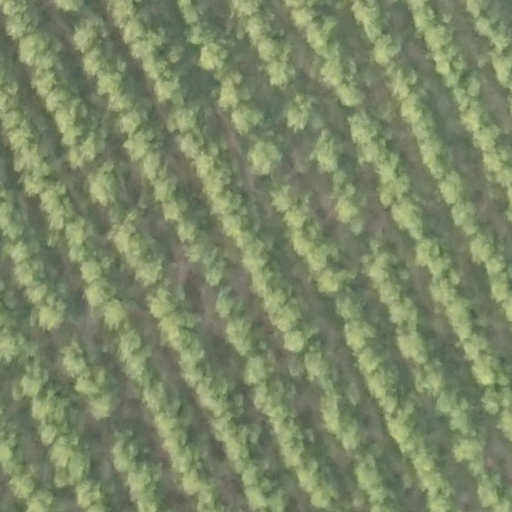eucalipto: (242, 132, 293, 184), (86, 160, 126, 208), (97, 292, 139, 333), (332, 191, 372, 234), (142, 281, 187, 319), (225, 318, 267, 357), (310, 128, 346, 172), (394, 325, 435, 363), (367, 362, 405, 403), (451, 73, 487, 115), (320, 389, 355, 432), (414, 239, 454, 276), (215, 71, 255, 108), (155, 74, 201, 106), (243, 351, 280, 390), (298, 456, 337, 493), (31, 296, 69, 333), (353, 449, 389, 488), (242, 458, 281, 494), (57, 336, 91, 377), (284, 95, 322, 130), (367, 33, 405, 68), (307, 349, 342, 387), (448, 199, 483, 236), (391, 198, 429, 232), (281, 321, 317, 356), (386, 405, 420, 442), (215, 287, 249, 323), (344, 316, 378, 352), (194, 39, 229, 73), (269, 58, 304, 92), (466, 225, 496, 263), (334, 77, 369, 109), (174, 218, 212, 247), (387, 299, 422, 329), (253, 34, 288, 63), (439, 170, 468, 204), (424, 23, 458, 51), (160, 194, 190, 225), (149, 174, 182, 202), (143, 150, 172, 180)
